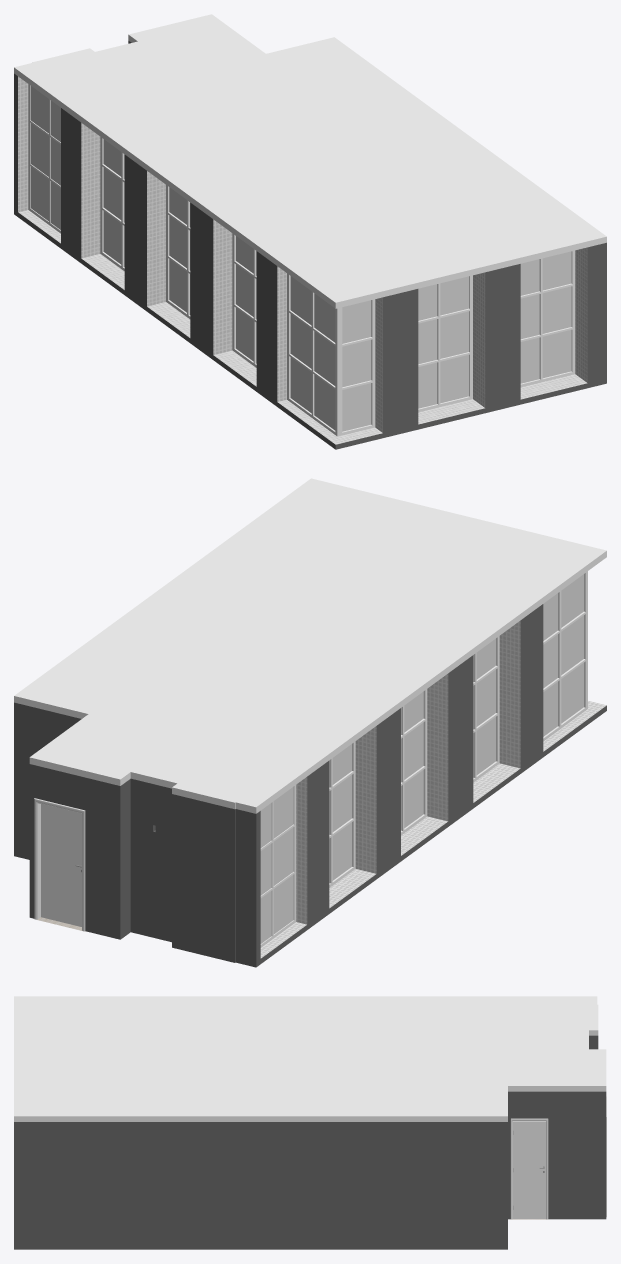
File: 1309Clean.glb
3 renders of one model, top to bottom at view 1: azimuth 30°, elevation 25°; view 2: azimuth 150°, elevation 25°; view 3: azimuth 270°, elevation 25°, orthographic. The views are drawn at different scales.
Parts seen in each view (by area): view 1: webPhyUpdatedClean; view 2: webPhyUpdatedClean; view 3: webPhyUpdatedClean.
Boxes of the visible parts, <box> form: webPhyUpdatedClean: <box>14,14,606,449</box>; webPhyUpdatedClean: <box>14,478,606,967</box>; webPhyUpdatedClean: <box>14,996,606,1249</box>.
Bounding box in the file's own units: 5.64 × 2.93 × 11.78.
Materials: 11 (4 with a texture image).
